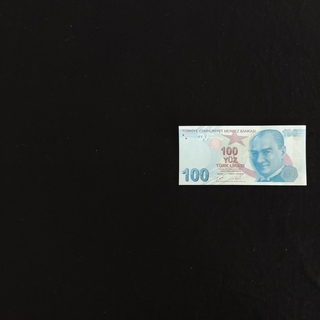100TLFront: (178, 124, 306, 186)
